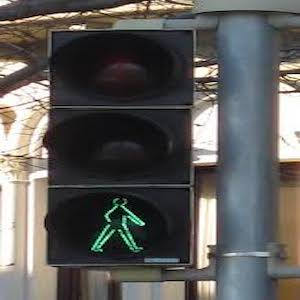green: (89, 196, 149, 258)
